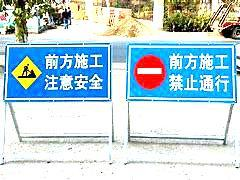sign: (127, 43, 236, 102), (4, 44, 113, 102)
